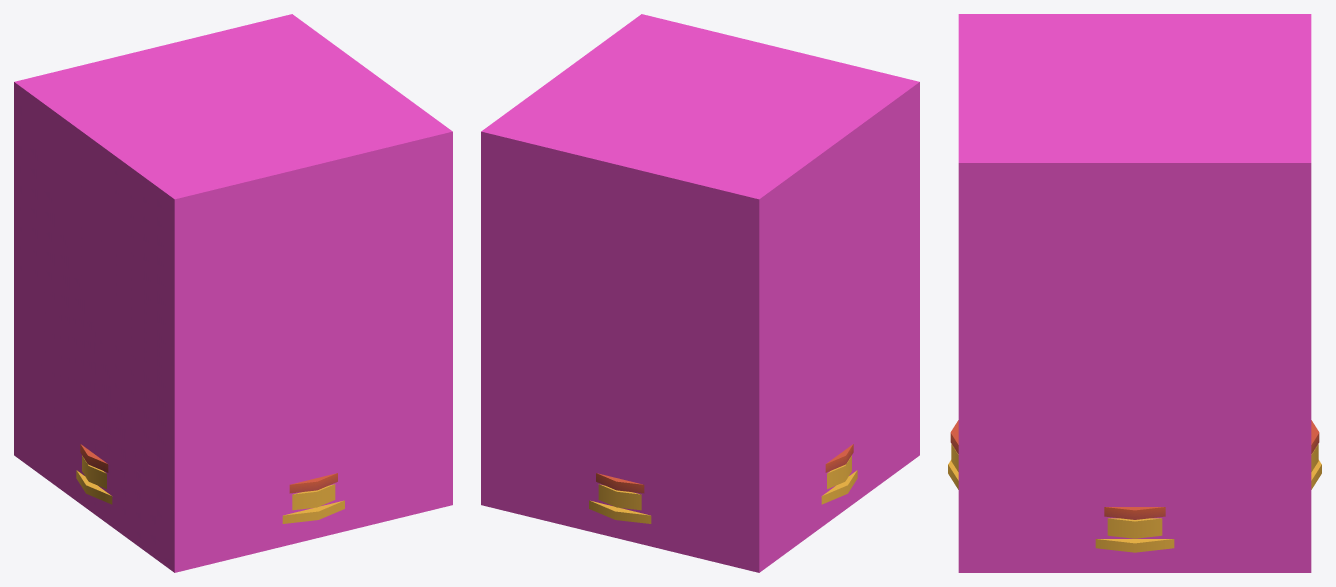
File: missile_launcher_lvl06.glb
3 views of the same model, side by side, from view 1: azimuth 30°, elevation 25°; view 2: azimuth 150°, elevation 25°; view 3: azimuth 270°, elevation 25° (orthographic). The views are drawn at different scales.
Visible parts, largest first — view 1: COL_BOX_BODY, base_mesh; view 2: COL_BOX_BODY, base_mesh; view 3: COL_BOX_BODY, base_mesh.
Part boxes in pixels (bbox=[...]): COL_BOX_BODY: bbox=[14, 14, 452, 572]; base_mesh: bbox=[76, 444, 344, 523]; COL_BOX_BODY: bbox=[481, 14, 919, 572]; base_mesh: bbox=[589, 444, 857, 523]; COL_BOX_BODY: bbox=[958, 14, 1311, 572]; base_mesh: bbox=[948, 420, 1321, 552].
Bounding box in the file's own units: 1.27 × 1.54 × 1.27.
2 materials, 1 textured.
